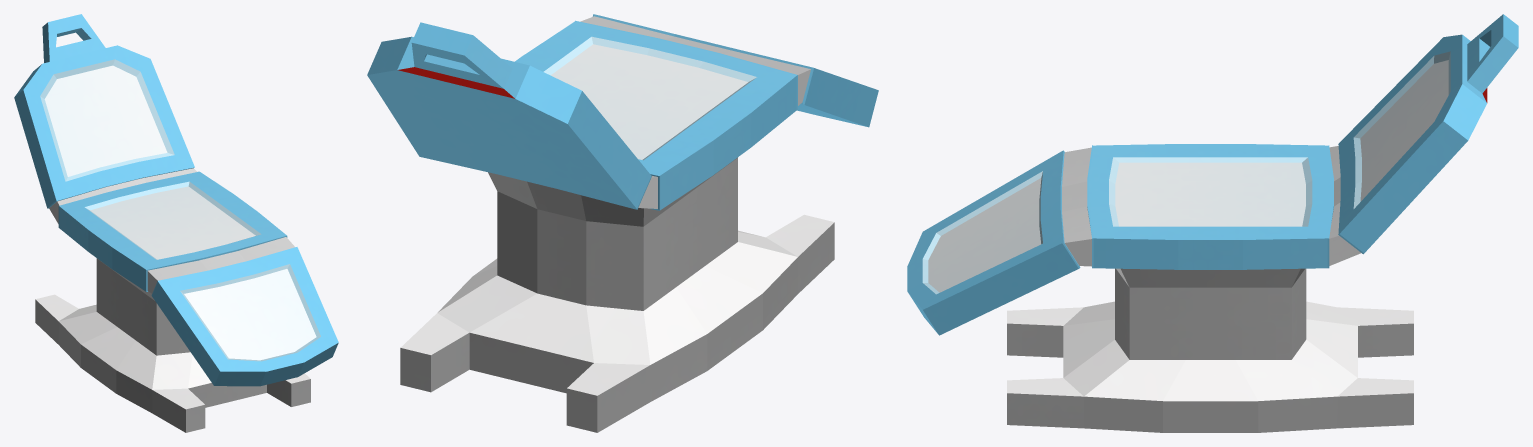
Rendered from bed_1.glb.
3 renders of one model, left to right at view 1: azimuth 30°, elevation 25°; view 2: azimuth 150°, elevation 25°; view 3: azimuth 270°, elevation 25°, orthographic. The views are drawn at different scales.
Visible parts, largest first — view 1: bed_1; view 2: bed_1; view 3: bed_1.
Boxes of the visible parts, box(x1,y1,x2,y2) form: bed_1: box(14, 14, 338, 432); bed_1: box(367, 14, 878, 432); bed_1: box(907, 14, 1518, 432).
Bounding box in the file's own units: 0.5363 × 0.9121 × 1.41.
Materials: 1 (1 with a texture image).
